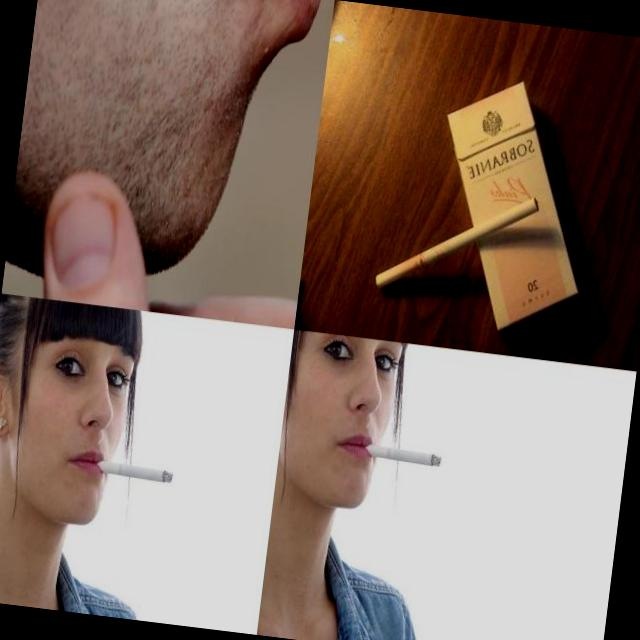smoke: (372, 180, 540, 307), (361, 442, 441, 468), (93, 458, 173, 484)
